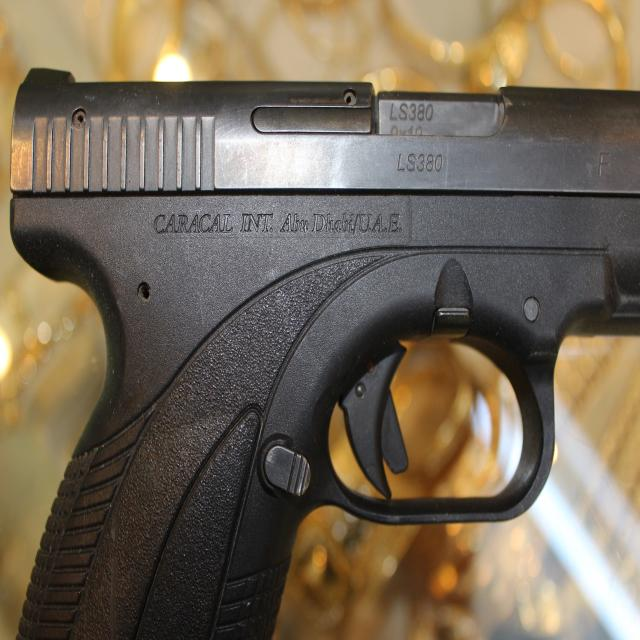Gun: (10, 55, 640, 640)
